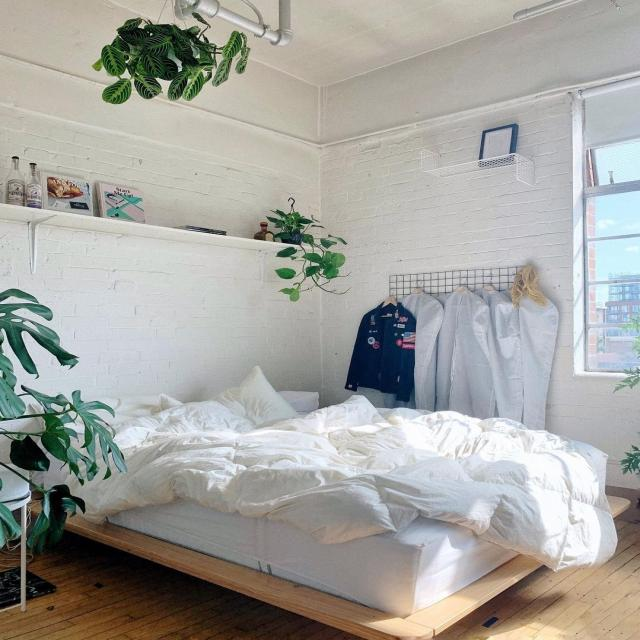bed: (74, 328, 640, 575)
